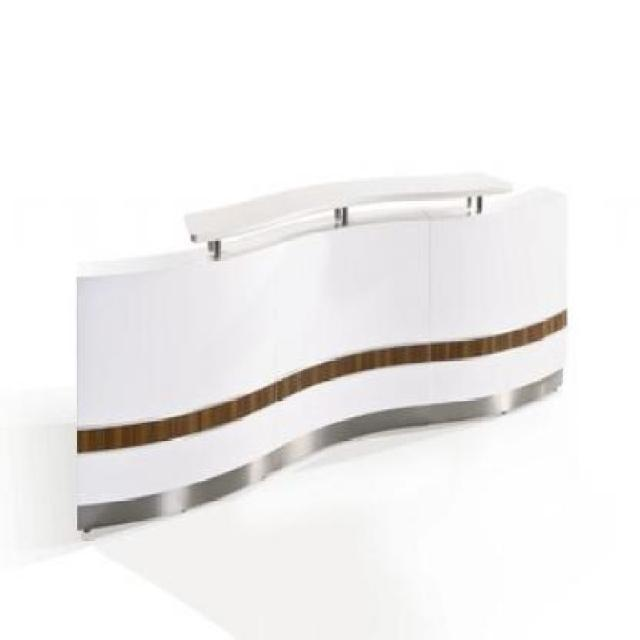frontdesk: (60, 160, 575, 546)
